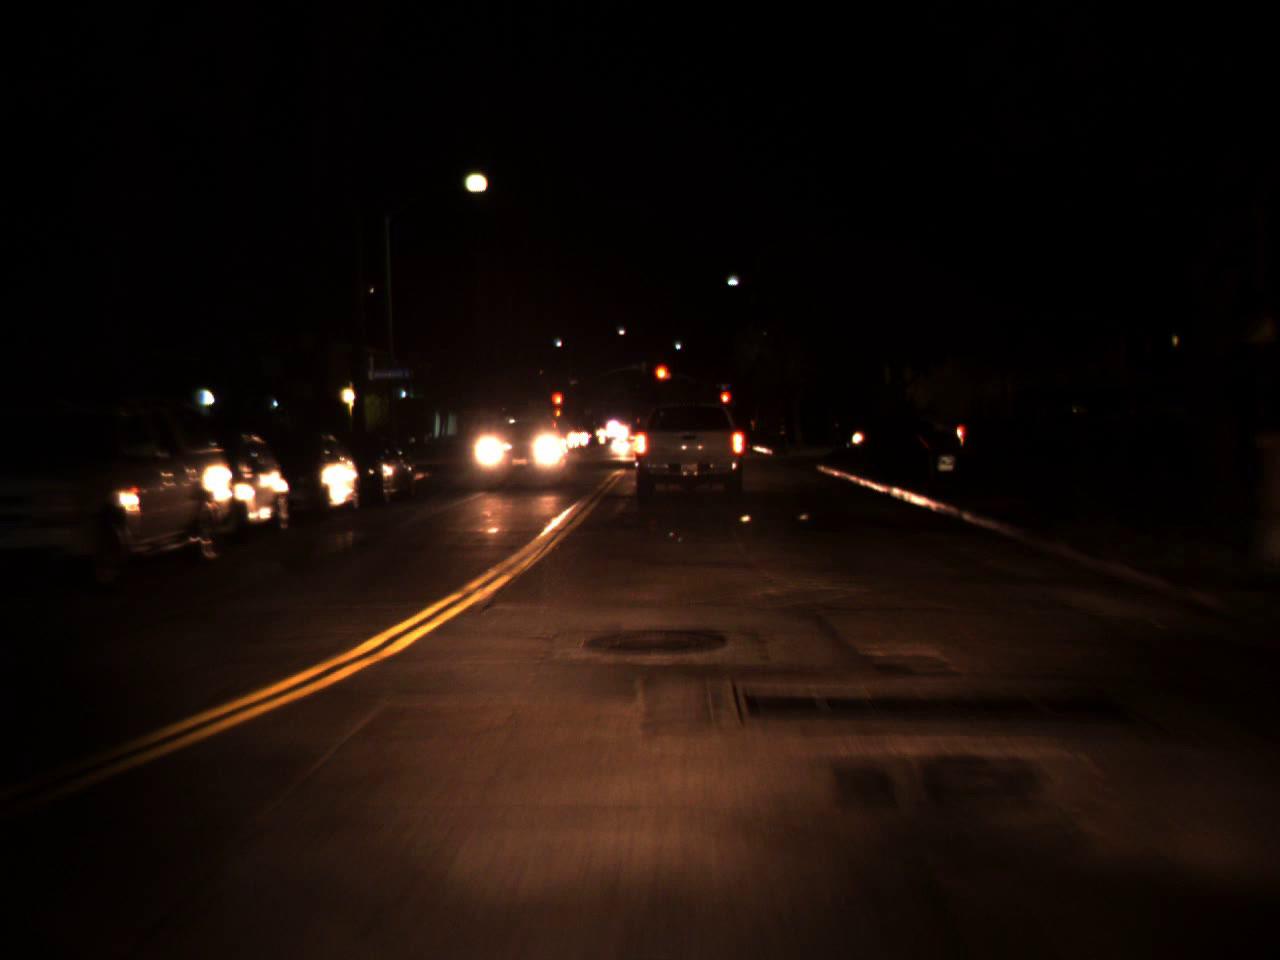stop: (653, 362, 671, 397), (549, 391, 564, 418), (718, 390, 731, 411)
